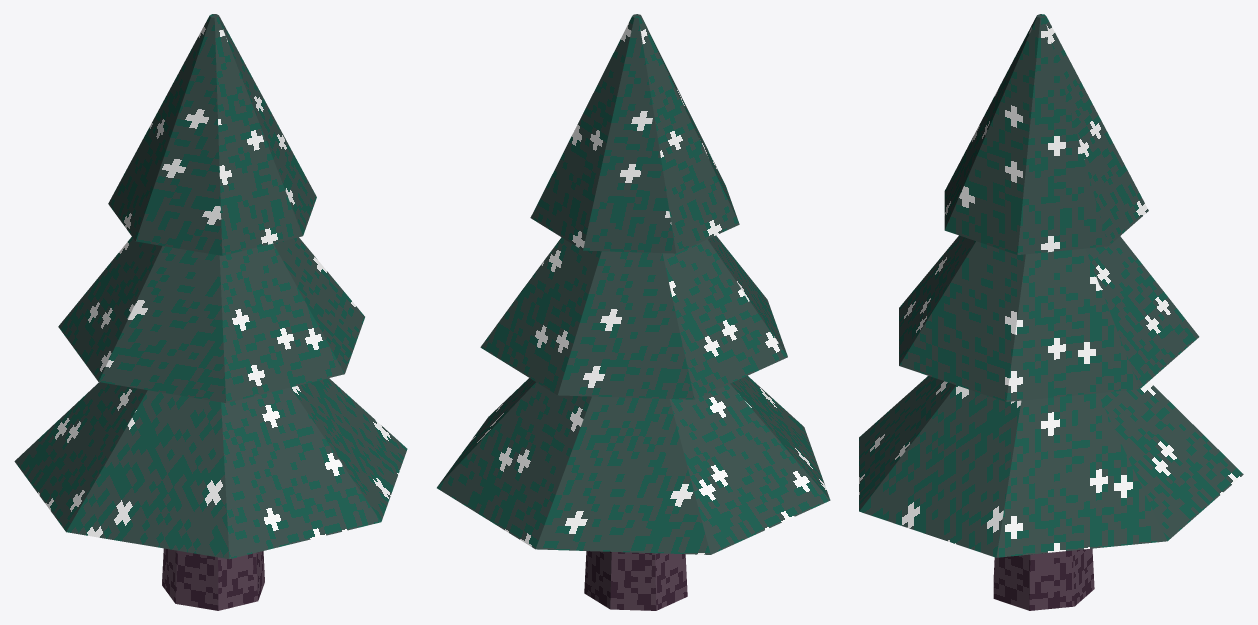
Rendered from r05_pinheiro_nevado_2.glb.
The picture shows the model from 3 angles, left to right: view 1: azimuth 30°, elevation 25°; view 2: azimuth 150°, elevation 25°; view 3: azimuth 270°, elevation 25°; orthographic projection.
Parts seen in each view (by area): view 1: r05_pinheiro_nevado_2; view 2: r05_pinheiro_nevado_2; view 3: r05_pinheiro_nevado_2.
Boxes of the visible parts, x1,y1,x2,y2 form: r05_pinheiro_nevado_2: [14, 14, 407, 610]; r05_pinheiro_nevado_2: [437, 14, 830, 610]; r05_pinheiro_nevado_2: [859, 14, 1243, 610].
Size of the model in its own units: 4.06 by 6.5 by 3.95.
Materials: 2 (2 with a texture image).
